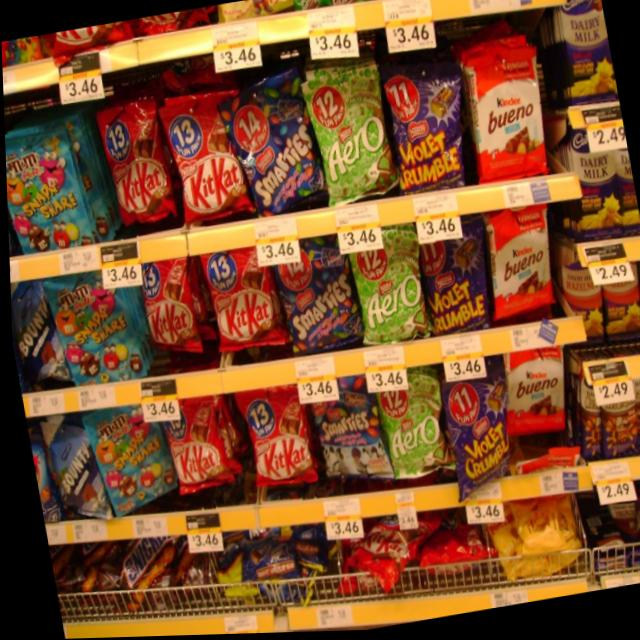q280: (157, 76, 257, 241), (87, 94, 180, 245), (146, 388, 243, 505), (199, 241, 284, 365), (230, 385, 317, 499), (132, 263, 207, 370)
